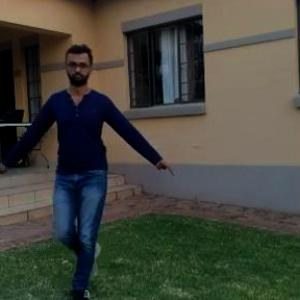land: (24, 69, 162, 272)
